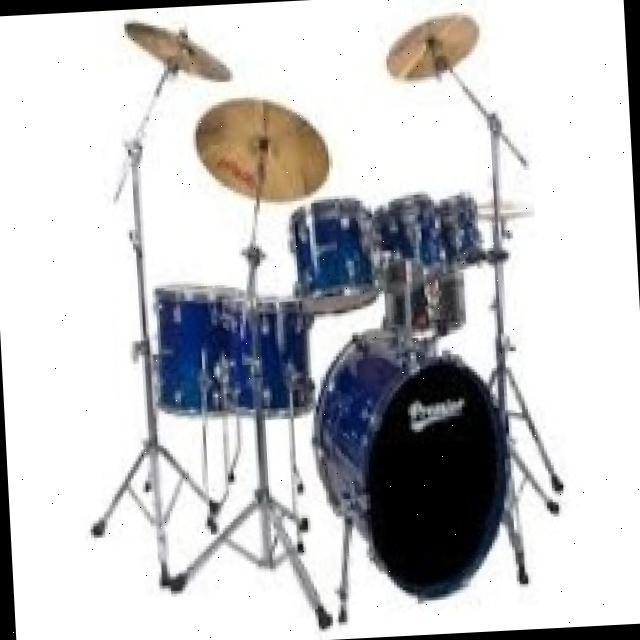drums: (81, 0, 566, 621)
